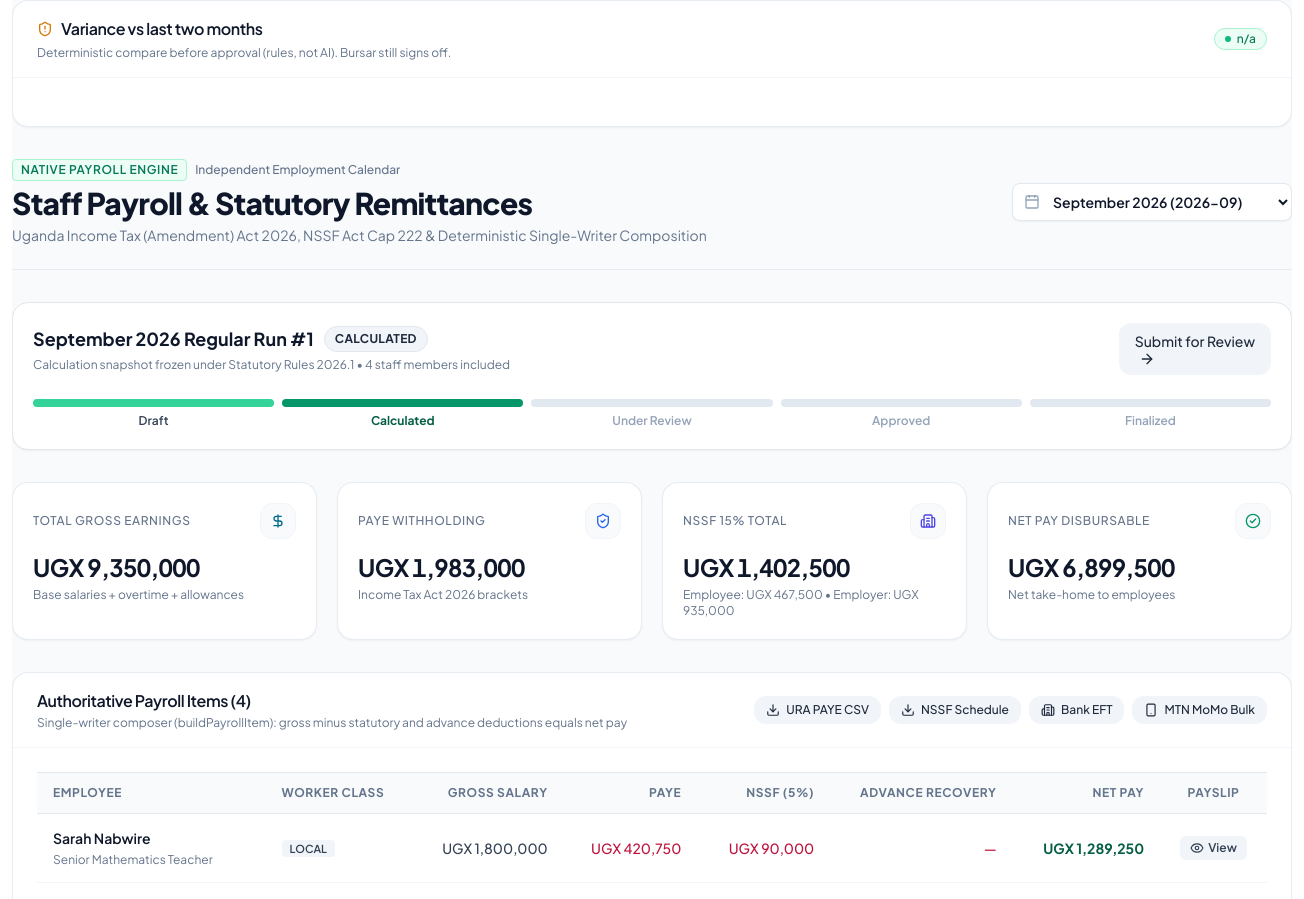
Test: C4: rejected status transition surfaces a toast › toasts naming the attempted transition when updateRunStatus returns false
expect the heading "Staff Payroll & Statutory Remittances" is shown: met, box [12,184,532,222]
Click the button "Submit for Review". click: (1195, 349)
box: [1119,323,1271,375]
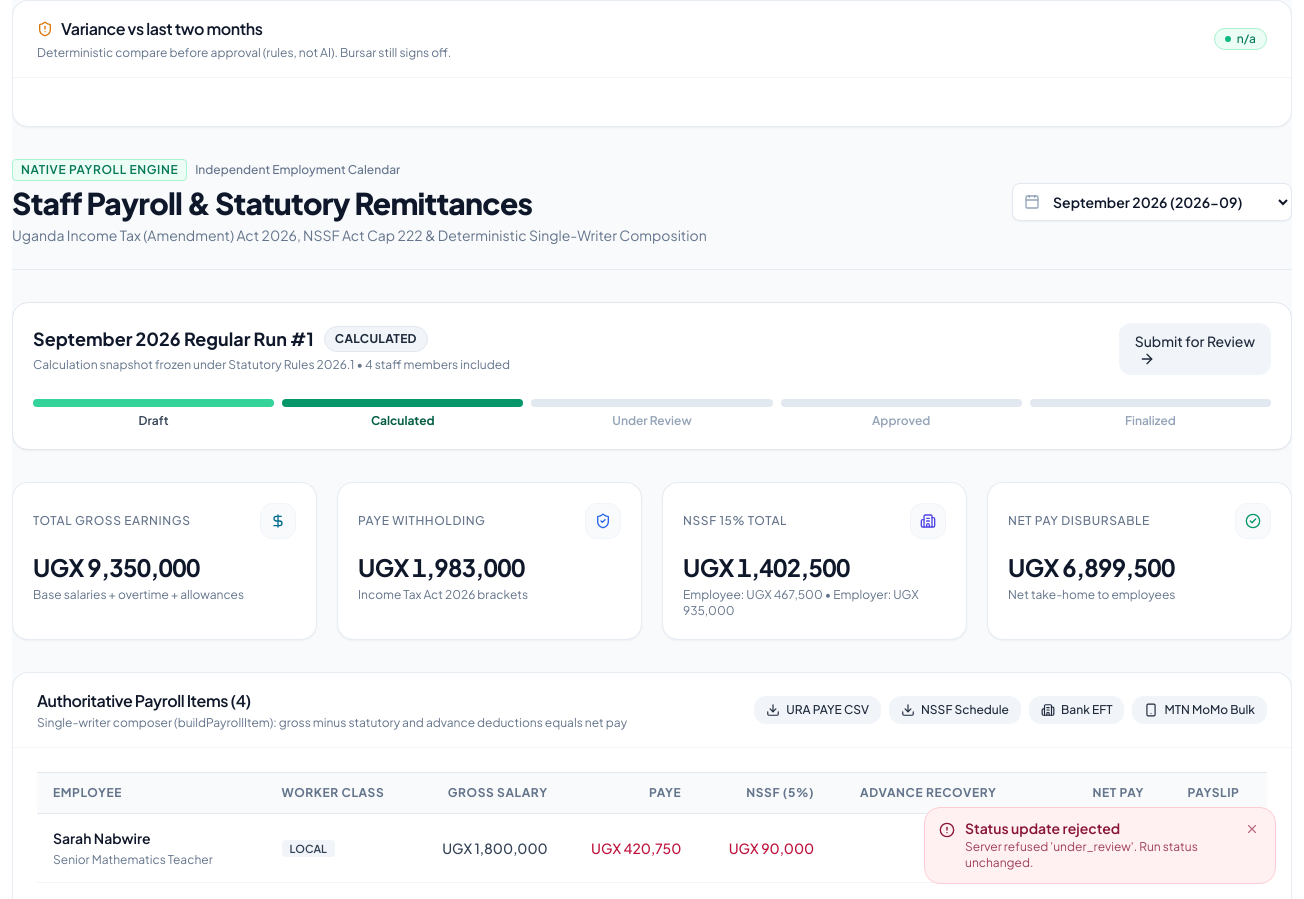
expect the text "Status update rejected" is shown: met, box [965,818,1120,836]
expect the text "Server refused 'under_review'. Run status unchanged." is shown: met, box [965,839,1233,871]
